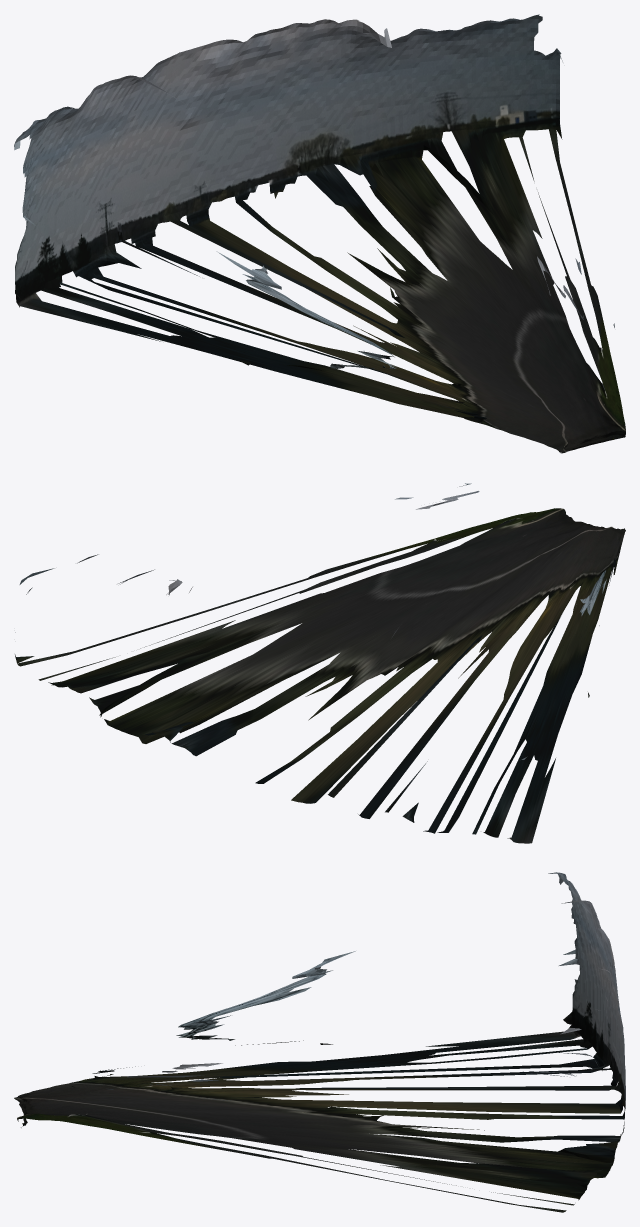
3 renders of one model, top to bottom at view 1: azimuth 30°, elevation 25°; view 2: azimuth 150°, elevation 25°; view 3: azimuth 270°, elevation 25°, orthographic. The views are drawn at different scales.
Visible parts, largest first — view 1: defaultobject; view 2: defaultobject; view 3: defaultobject.
Part boxes in pixels (left/top/right/bottom): defaultobject: left=14, top=14, right=625, bottom=453; defaultobject: left=15, top=483, right=625, bottom=843; defaultobject: left=14, top=872, right=625, bottom=1212.
Bounding box in the file's own units: 40.16 × 13.75 × 44.6.
Materials: 1 (1 with a texture image).
